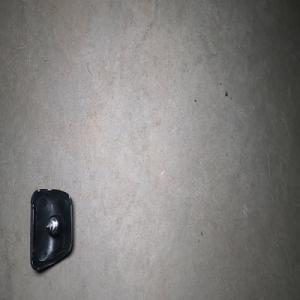LuggagePart: (29, 187, 73, 273)
